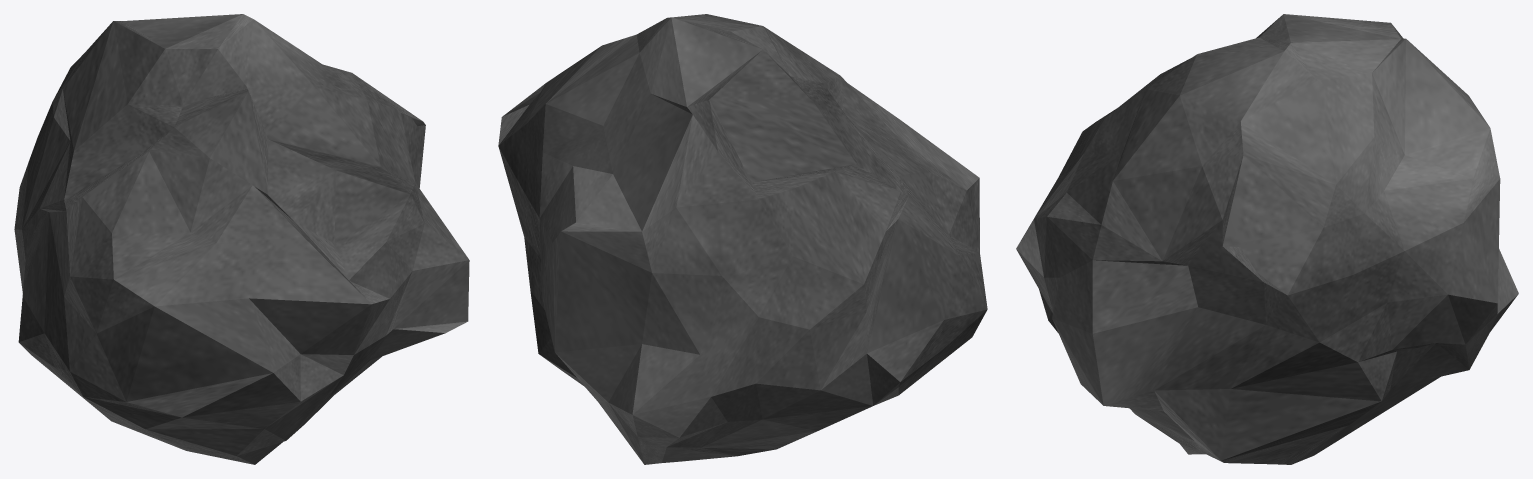
File: Asteroid.obj
The picture shows the model from 3 angles, left to right: view 1: azimuth 30°, elevation 25°; view 2: azimuth 150°, elevation 25°; view 3: azimuth 270°, elevation 25°; orthographic projection. The views are drawn at different scales.
Visible parts, largest first — view 1: Icosphere; view 2: Icosphere; view 3: Icosphere.
Part boxes in pixels (bbox=[...]): Icosphere: bbox=[14, 14, 469, 464]; Icosphere: bbox=[498, 14, 987, 464]; Icosphere: bbox=[1016, 14, 1518, 464].
Bounding box in the file's own units: 2.03 × 1.95 × 2.07.
